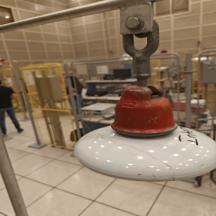insulator: (70, 77, 216, 188)
